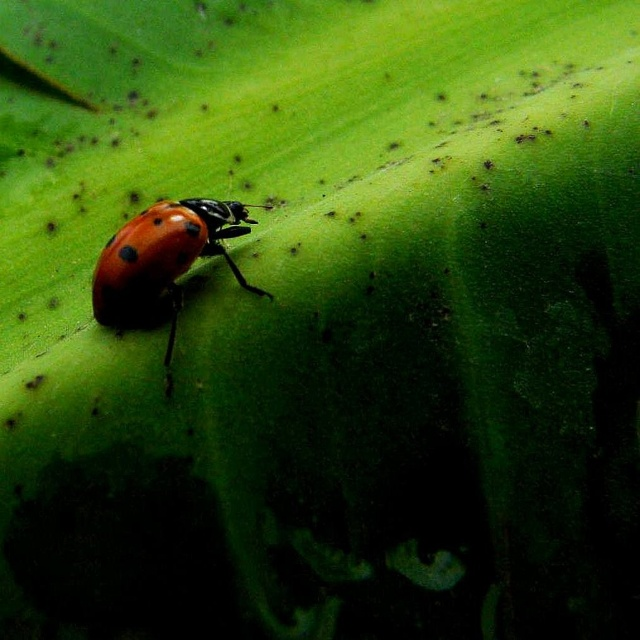Ladybug: (86, 193, 274, 371)
